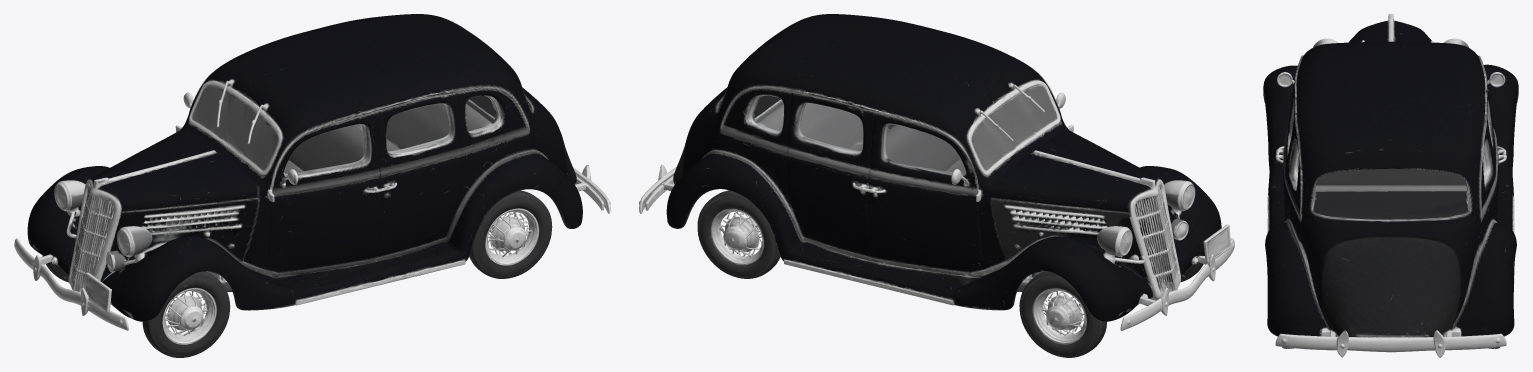
The model's file is taxi.glb.
3 views of the same model, side by side, from view 1: azimuth 30°, elevation 25°; view 2: azimuth 150°, elevation 25°; view 3: azimuth 270°, elevation 25° (orthographic).
Bounding box in the file's own units: 1.9 × 0.7583 × 0.8132.
Materials: 1 (1 with a texture image).
